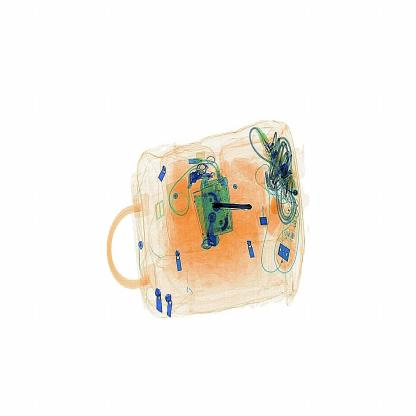knife: (214, 199, 254, 214)
